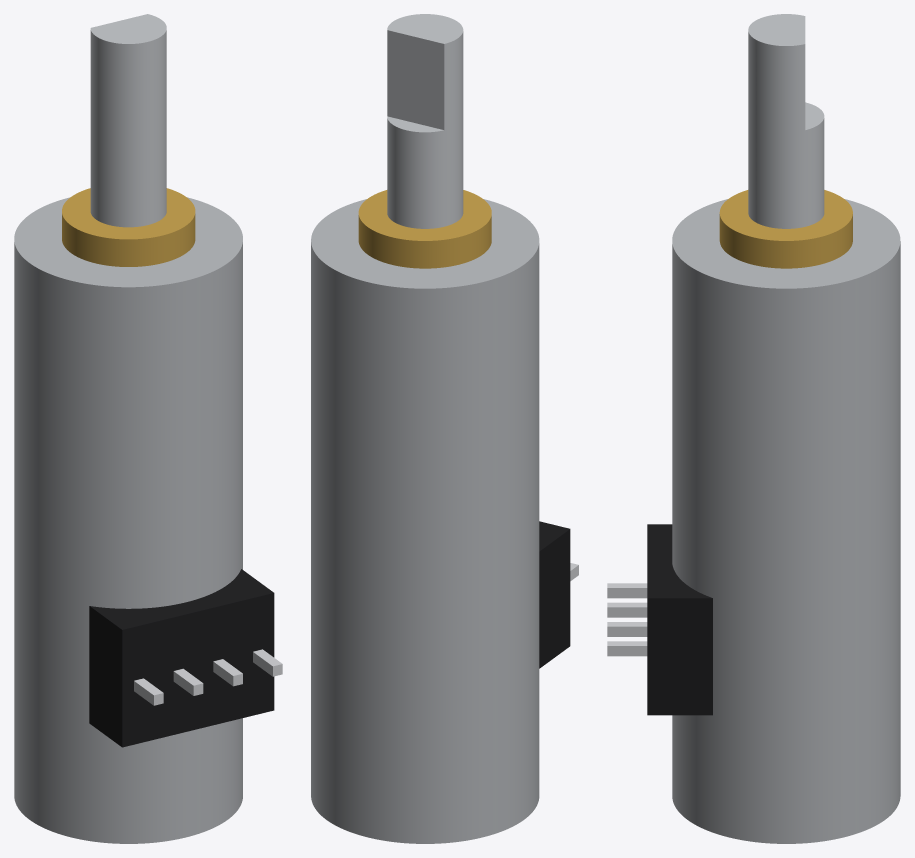
Rendered from nfp_608_26_45.glb.
3 renders of one model, left to right at view 1: azimuth 30°, elevation 25°; view 2: azimuth 150°, elevation 25°; view 3: azimuth 270°, elevation 25°, orthographic.
Visible parts, largest first — view 1: gearbox, motor_can, term_block, shaft, front_boss, pin2, pin1, pin3, pin4; view 2: gearbox, motor_can, shaft, front_boss, term_block; view 3: gearbox, motor_can, shaft, term_block, front_boss, pin1, pin2, pin4, pin3.
Part boxes in pixels (box(x1,y1,x2,y2)): gearbox: box(14, 197, 242, 567); motor_can: box(14, 522, 242, 843); term_block: box(89, 569, 274, 747); shaft: box(90, 14, 166, 227); front_boss: box(62, 188, 195, 266); pin2: box(173, 668, 203, 695); pin1: box(134, 678, 163, 705); pin3: box(213, 659, 242, 686); pin4: box(253, 649, 282, 676); gearbox: box(311, 199, 539, 567); motor_can: box(311, 522, 539, 843); shaft: box(387, 14, 463, 228); front_boss: box(358, 190, 491, 268); term_block: box(539, 521, 570, 668); gearbox: box(672, 199, 900, 567); motor_can: box(672, 521, 900, 843); shaft: box(748, 14, 824, 228); term_block: box(647, 524, 712, 715); front_boss: box(719, 190, 852, 268); pin1: box(607, 583, 647, 598); pin2: box(607, 602, 647, 617); pin4: box(607, 641, 647, 656); pin3: box(607, 622, 647, 636).
Bounding box in the file's own units: 0.006 × 0.0229 × 0.0077.
